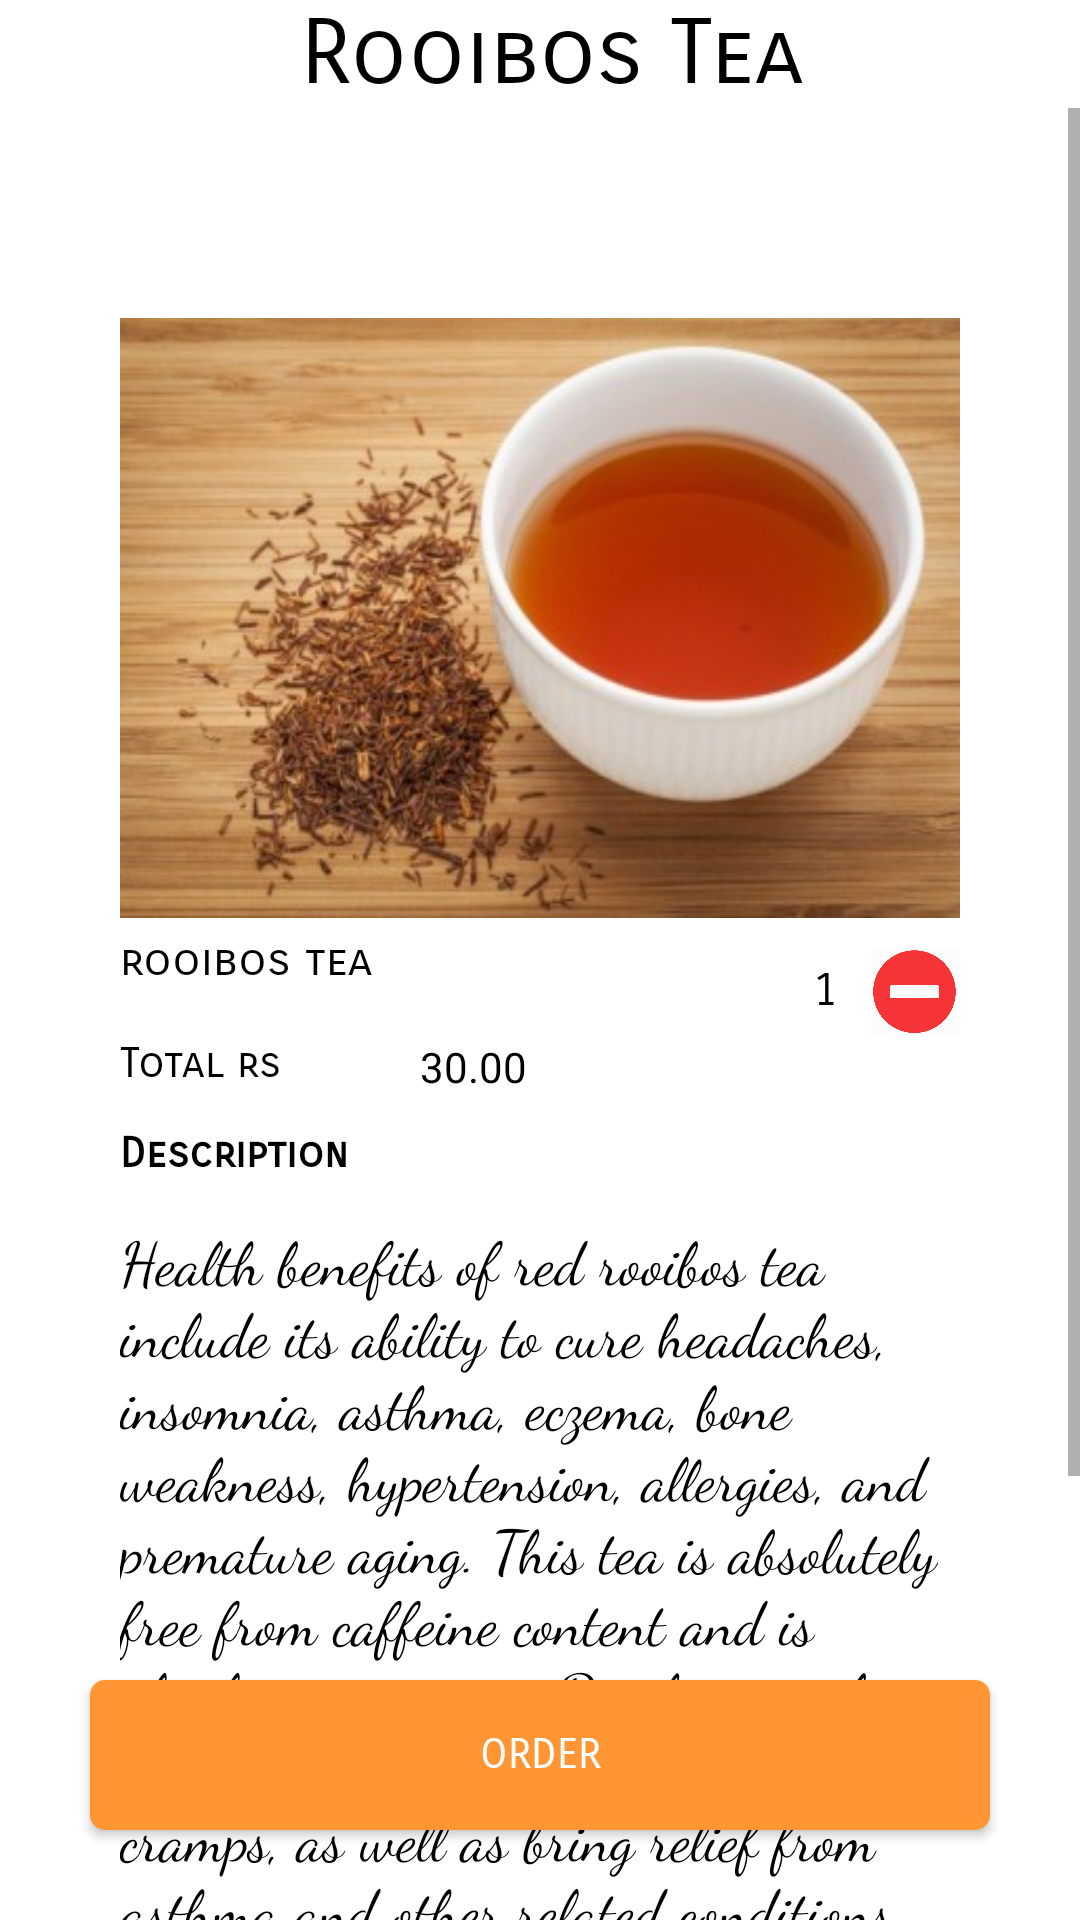

Point at icon controls on the screen. Image size 1080px x 1920px, points as point (x, y).
minus: point (914, 991)
